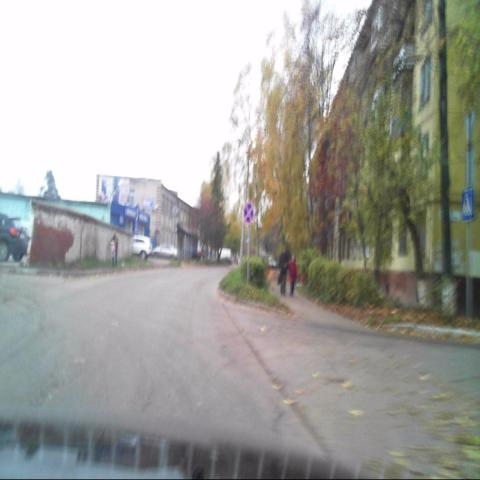3_27: (243, 203, 254, 226)
5_19_1: (461, 187, 475, 223)
